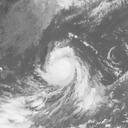cyclone: (42, 48, 76, 87)
